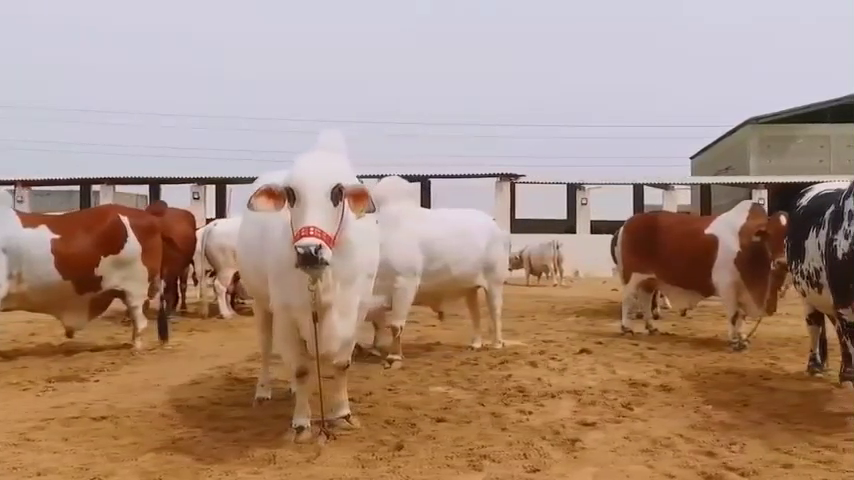bo: (236, 116, 371, 450), (605, 193, 794, 360), (362, 172, 518, 367), (4, 197, 163, 362), (788, 160, 854, 416), (190, 210, 241, 339), (144, 182, 196, 308), (505, 219, 577, 296)
